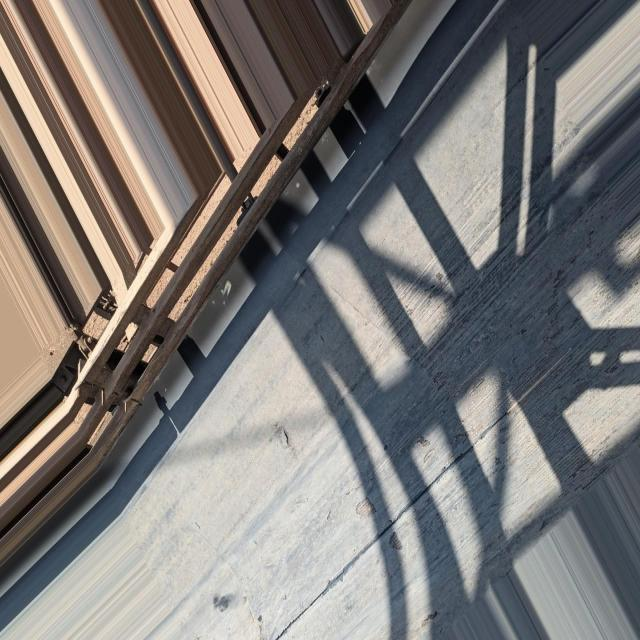Tear: (268, 403, 509, 640), (353, 492, 377, 523), (387, 531, 405, 555), (276, 424, 293, 449), (318, 332, 327, 346)
